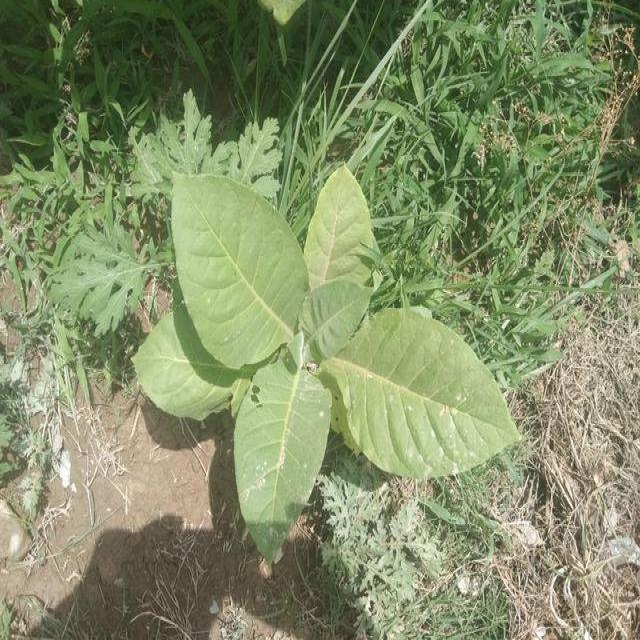crop: (135, 158, 520, 550)
